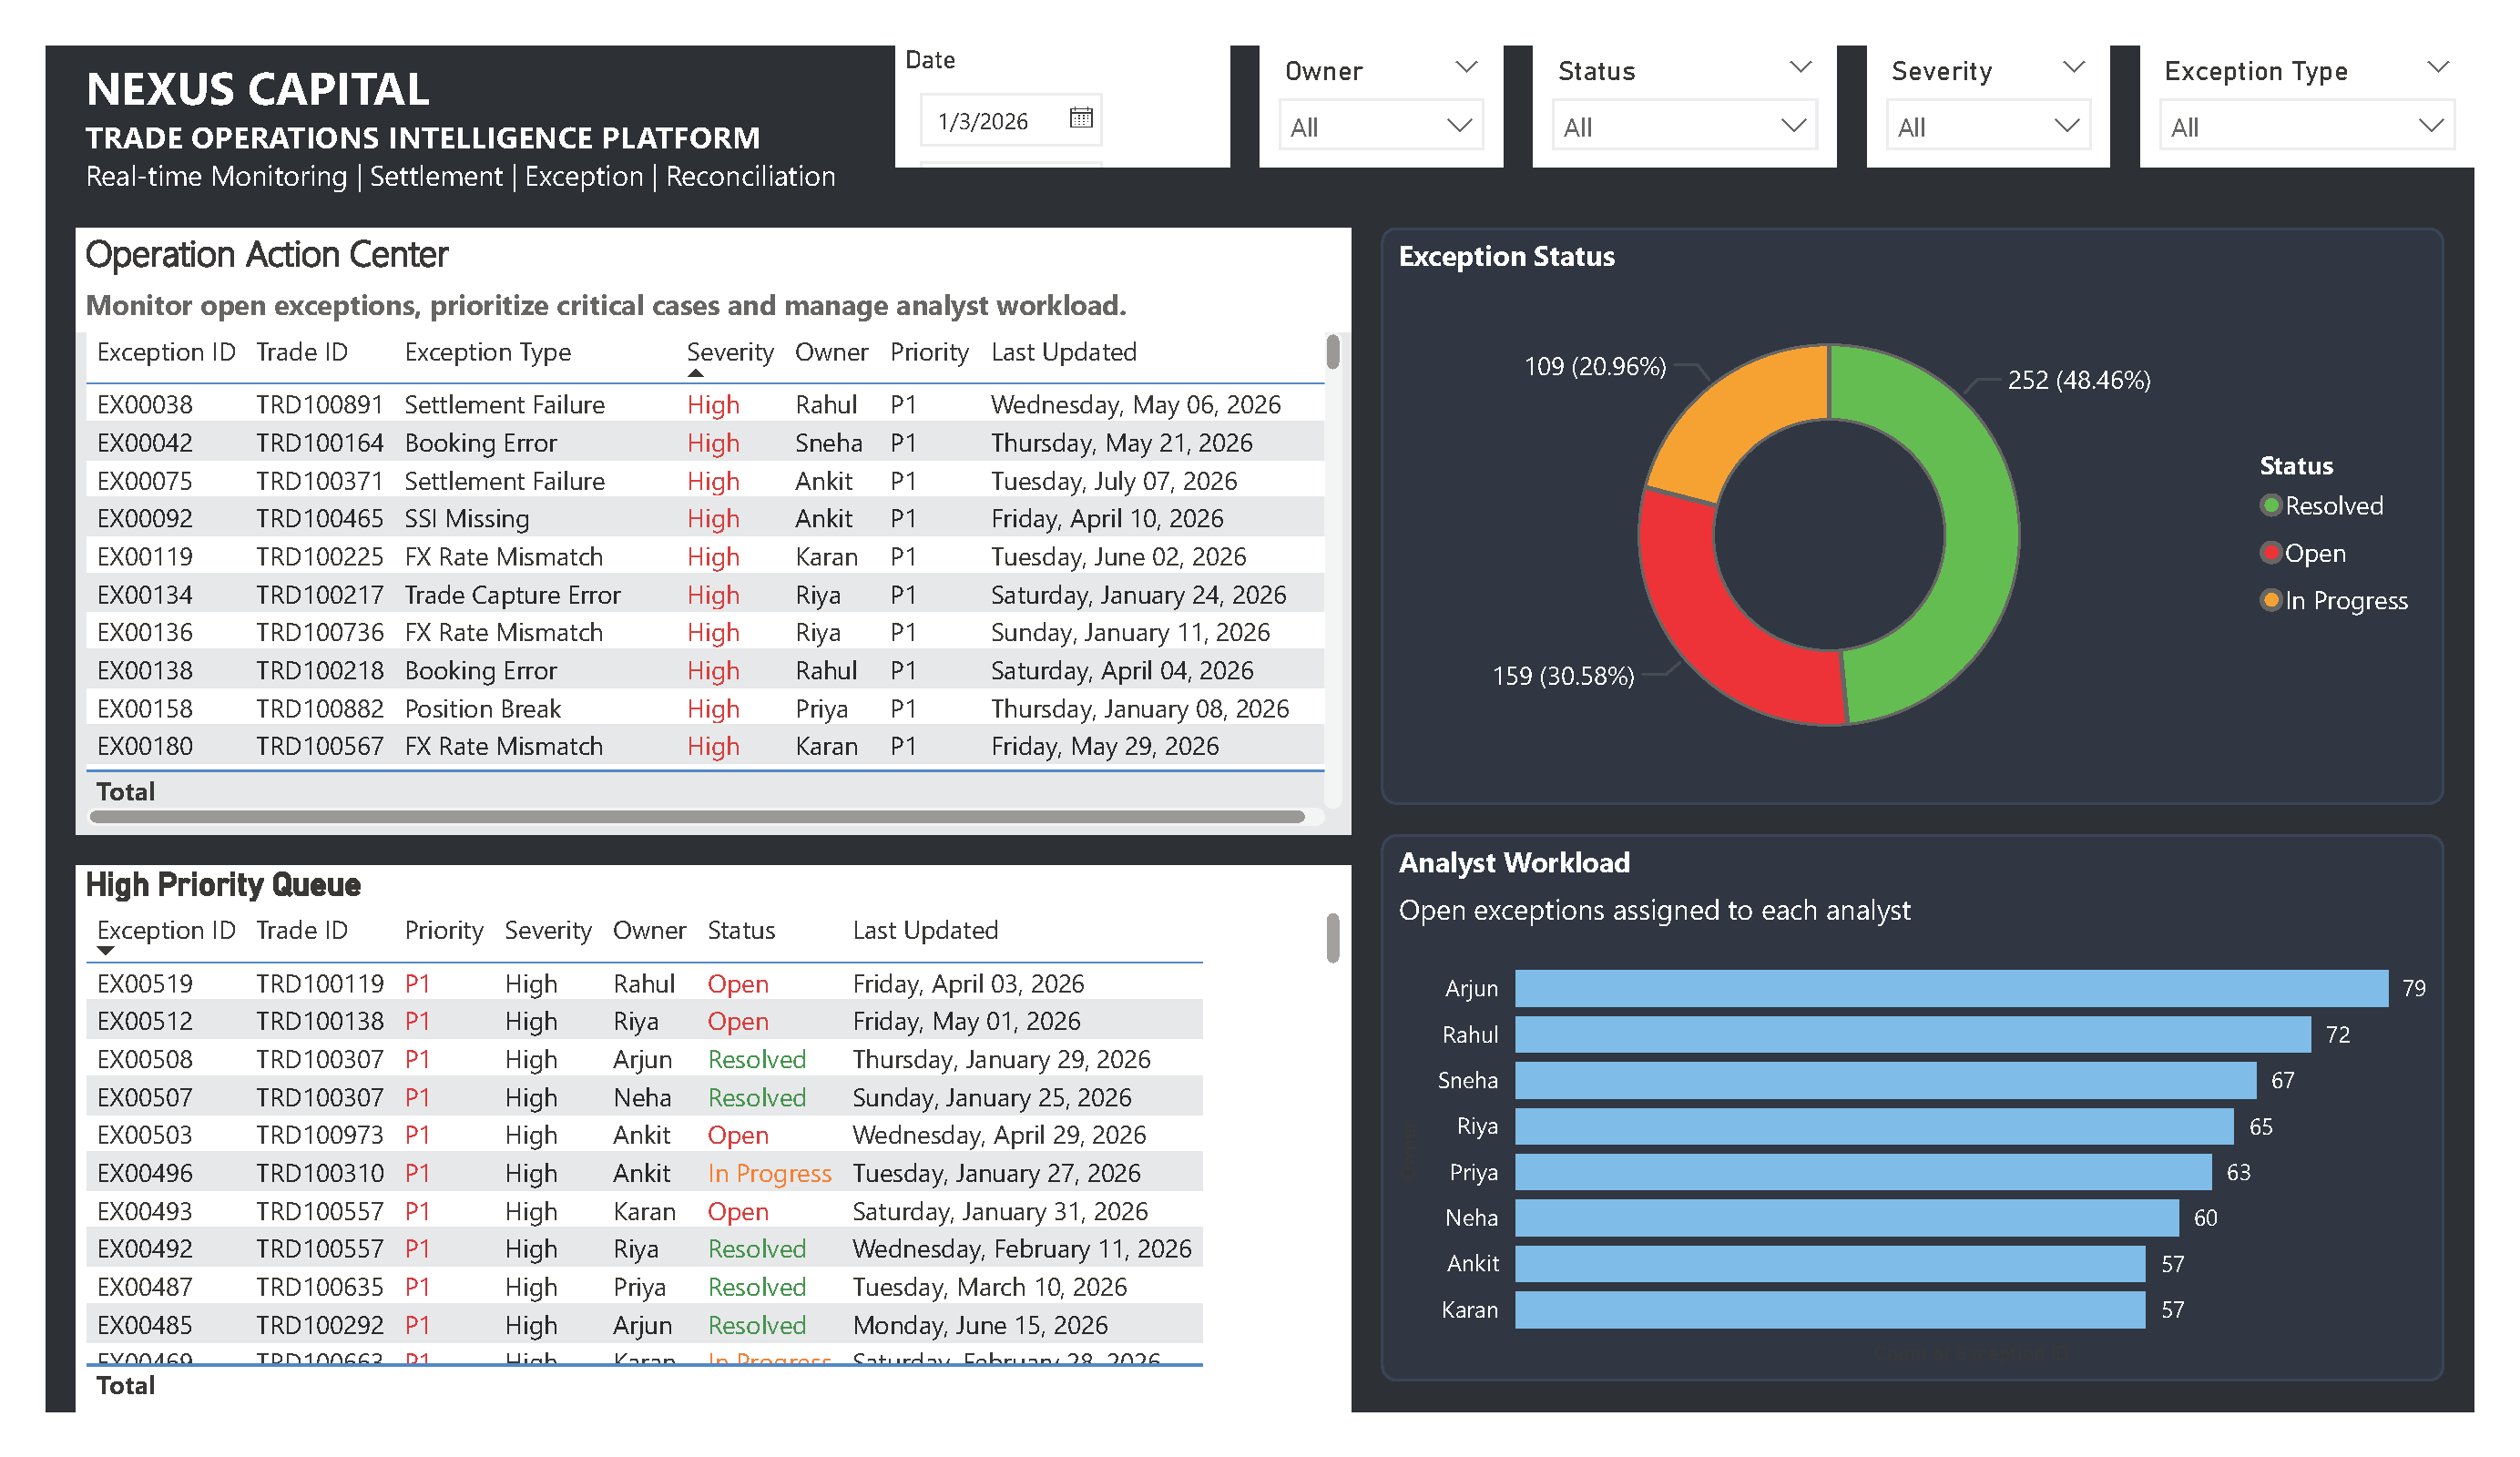

The dashboard page shown, as its layout file describes it:
{"tool":"powerbi","page":{"name":"📋 Action Center","canvas":[1280,720],"ordinal":3},"visuals":[{"type":"textbox","box":[16,0,448,96],"z":0},{"type":"slicer","fields":{"Values":["Exception.Exception_Type"]},"box":[1104,0,176,64],"z":1000},{"type":"slicer","title":"Date","fields":{"Values":["Exception.Created_Date"]},"box":[448,0,176,64],"z":2000},{"type":"slicer","title":"Owner","fields":{"Values":["Exception.Owner"]},"box":[640,0,128,64],"z":3000},{"type":"slicer","fields":{"Values":["Exception.Status"]},"box":[784,0,160,64],"z":4000},{"type":"slicer","fields":{"Values":["Exception.Severity"]},"box":[960,0,128,64],"z":5000},{"type":"tableEx","title":"Operation Action Center","fields":{"Values":["Exception.Exception_ID","Exception.Trade_ID","Exception.Exception_Type","Exception.Severity","Exception.Owner","Exception.Priority","Exception.Last_Updated"]},"box":[16,96,672,320],"z":6000},{"type":"clusteredBarChart","title":"Analyst Workload","fields":{"Y":["CountNonNull(Exception.Exception_ID)"],"Category":["Exception.Owner"]},"box":[704,416,560,288],"z":7000},{"type":"donutChart","title":"Exception Status","fields":{"Y":["CountNonNull(Exception.Exception_ID)"],"Category":["Exception.Status"]},"box":[704,96,560,304],"z":8000},{"type":"tableEx","title":"High Priority Queue","fields":{"Values":["Exception.Exception_ID","Exception.Trade_ID","Exception.Priority","Exception.Severity","Exception.Owner","Exception.Status","Exception.Last_Updated"]},"box":[16,432,672,288],"z":9000}]}

Visuals, with their boxes in screenshot pixels (x1, y1, x2, y2):
textbox: (37, 39, 907, 226)
slicer - Exception.Exception_Type: (2150, 39, 2492, 164)
"Date" slicer: (876, 39, 1218, 164)
"Owner" slicer: (1250, 39, 1497, 164)
slicer - Exception.Status: (1529, 39, 1840, 164)
slicer - Exception.Severity: (1871, 39, 2119, 164)
"Operation Action Center" tableEx: (37, 226, 1342, 847)
"Analyst Workload" clusteredBarChart: (1373, 847, 2461, 1406)
"Exception Status" donutChart: (1373, 226, 2461, 816)
"High Priority Queue" tableEx: (37, 878, 1342, 1437)
